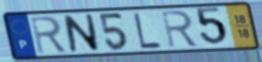5: (193, 6, 230, 49), (98, 10, 130, 53)
L: (131, 12, 163, 50)
N: (61, 13, 102, 54)
R: (159, 9, 200, 50), (28, 15, 69, 56)
